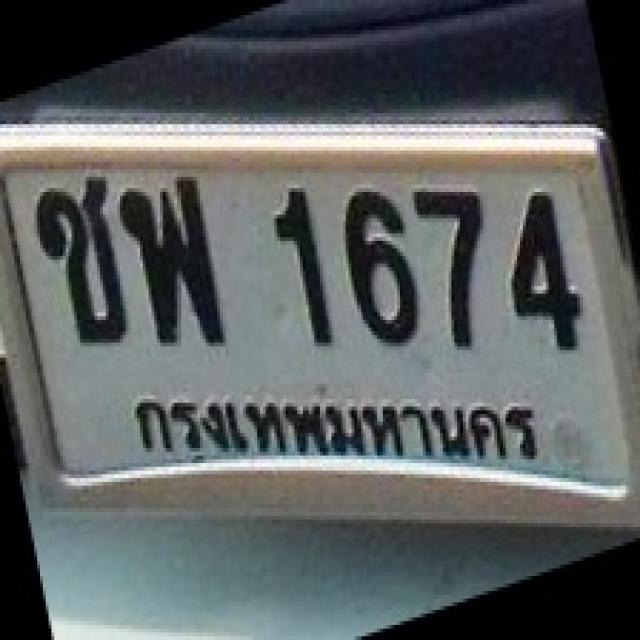1: (263, 162, 338, 376)
4: (498, 156, 599, 400)
6: (330, 168, 428, 386)
7: (410, 160, 498, 383)
A10: (25, 158, 142, 346)
A31: (115, 152, 244, 371)
BKK: (108, 375, 562, 486)
